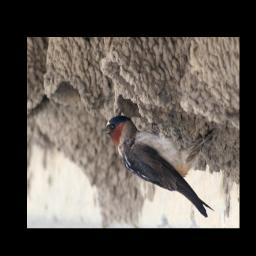Swallow: (99, 114, 218, 219)
